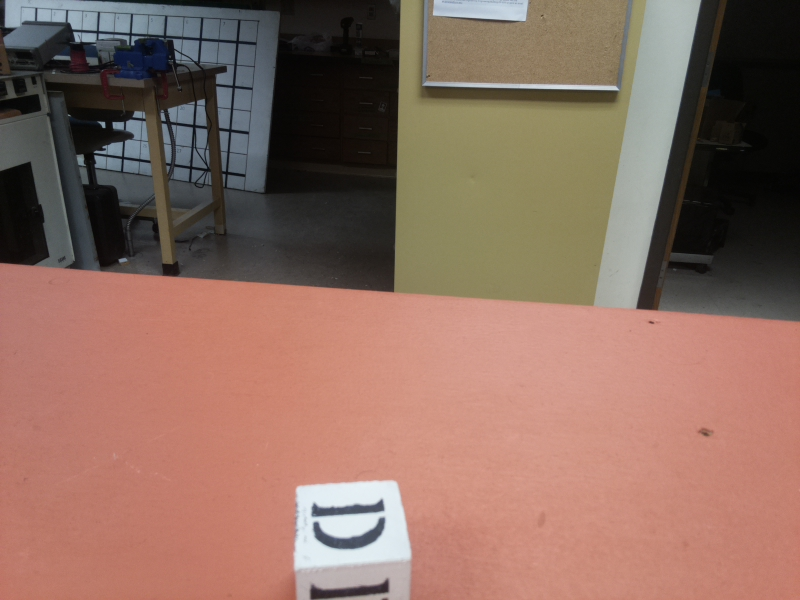blockD: (289, 482, 414, 599)
